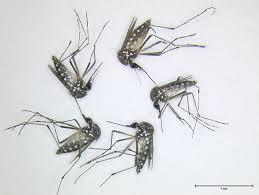insect: (3, 95, 103, 195), (112, 0, 217, 86), (44, 7, 112, 101), (71, 117, 155, 191), (149, 76, 231, 141)
